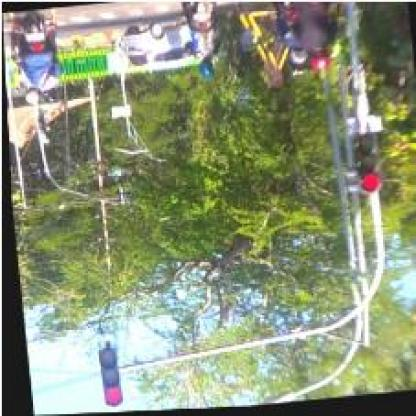red: (355, 134, 382, 196), (92, 347, 117, 408)
